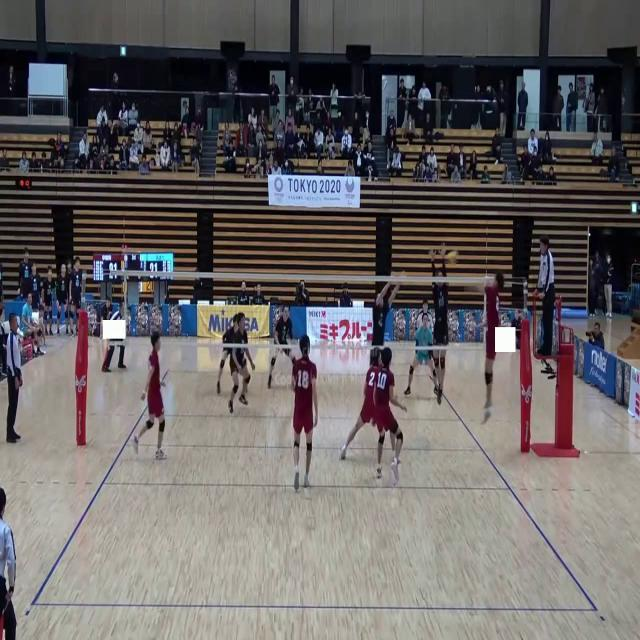volleyball: (446, 252, 458, 266)
